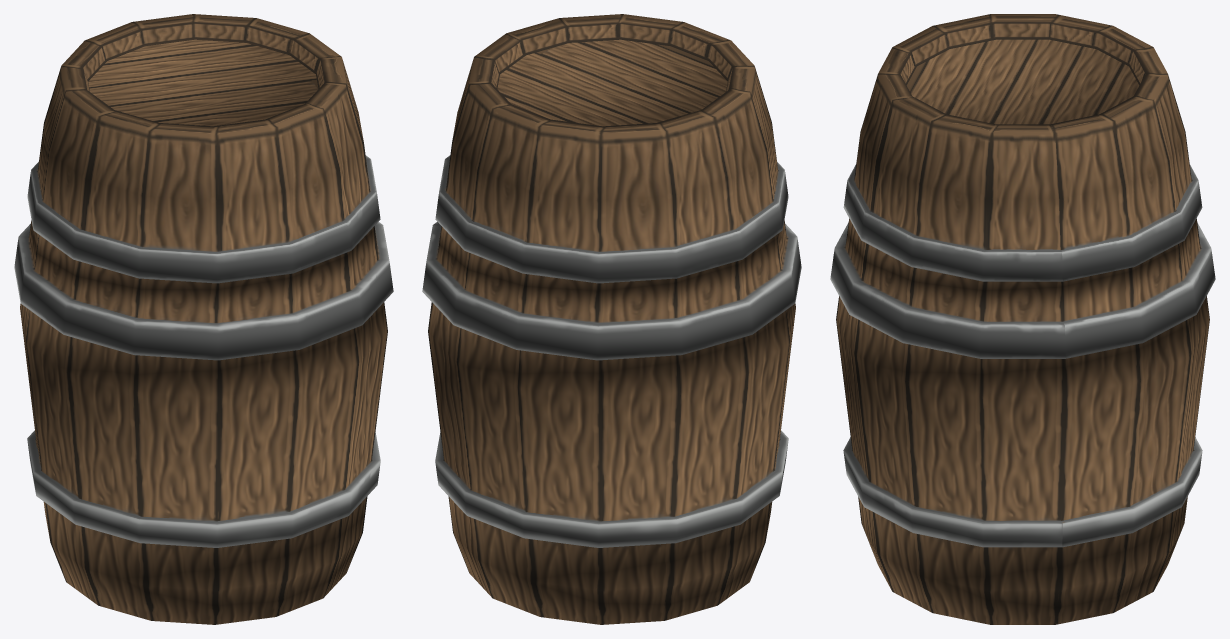
File: Barril.fbx
The picture shows the model from 3 angles, left to right: view 1: azimuth 30°, elevation 25°; view 2: azimuth 150°, elevation 25°; view 3: azimuth 270°, elevation 25°; orthographic projection.
Parts seen in each view (by area): view 1: Cylinder; view 2: Cylinder; view 3: Cylinder.
Boxes of the visible parts, bbox=[...] form: Cylinder: bbox=[14, 14, 393, 624]; Cylinder: bbox=[422, 14, 801, 624]; Cylinder: bbox=[830, 14, 1215, 624].
Size of the model in its own units: 2.25 by 3.24 by 2.3.
